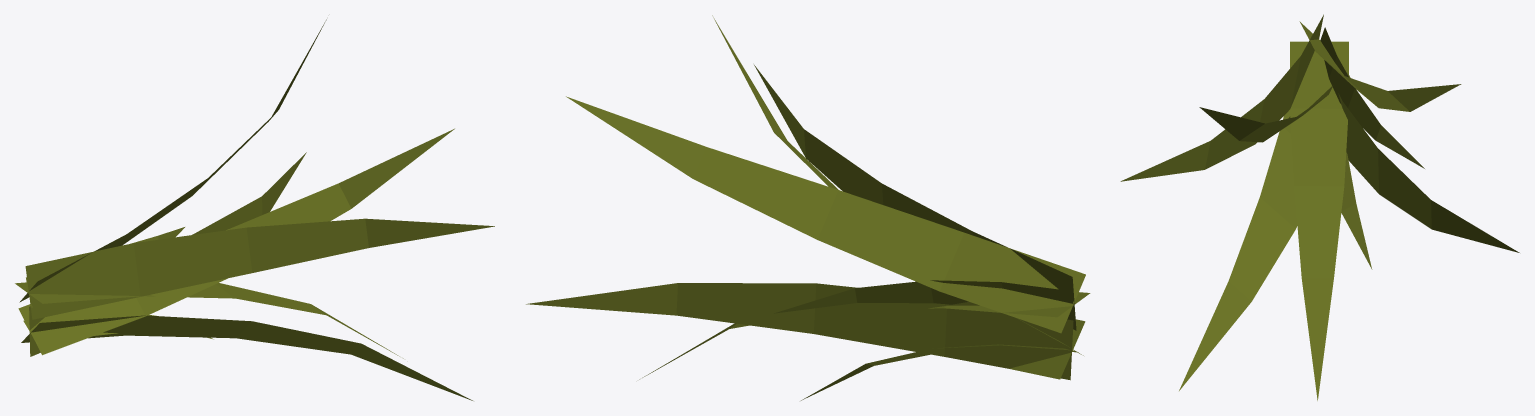
Rendered from fiorellinipratini.fbx.
The picture shows the model from 3 angles, left to right: view 1: azimuth 30°, elevation 25°; view 2: azimuth 150°, elevation 25°; view 3: azimuth 270°, elevation 25°; orthographic projection. The views are drawn at different scales.
Parts seen in each view (by area): view 1: Grass; view 2: Grass; view 3: Grass.
Boxes of the visible parts, <box> form: Grass: <box>15,19,494,400</box>; Grass: <box>526,15,1090,400</box>; Grass: <box>1120,14,1519,400</box>.
Size of the model in its own units: 189 by 142 by 166.
